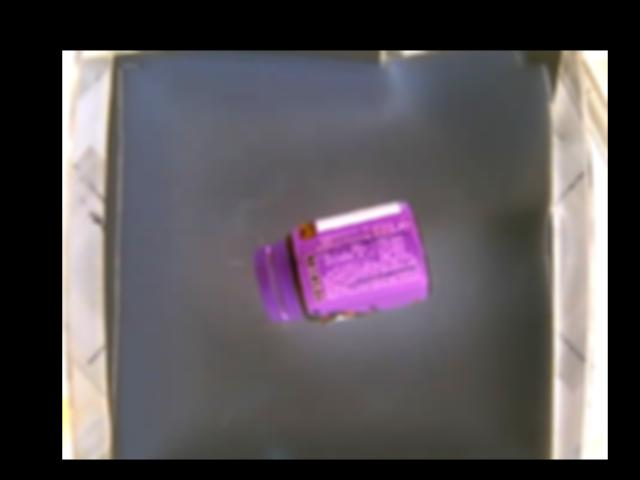Bottle: (253, 196, 430, 326)
